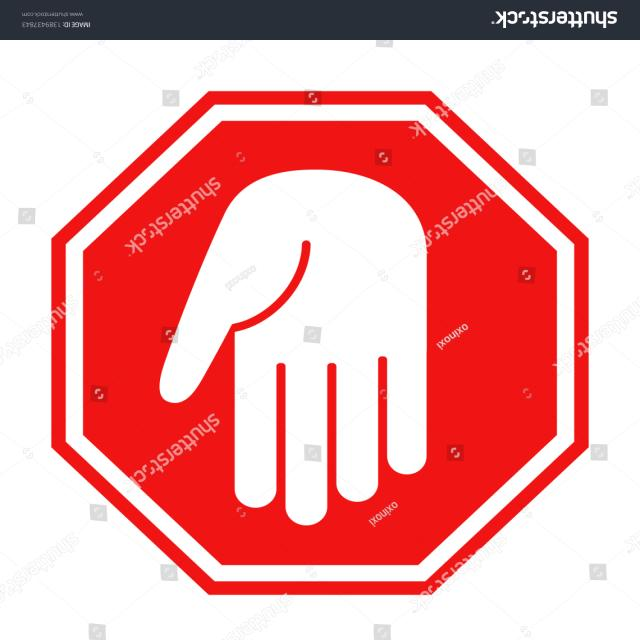Traffic sign: (45, 65, 618, 608)
